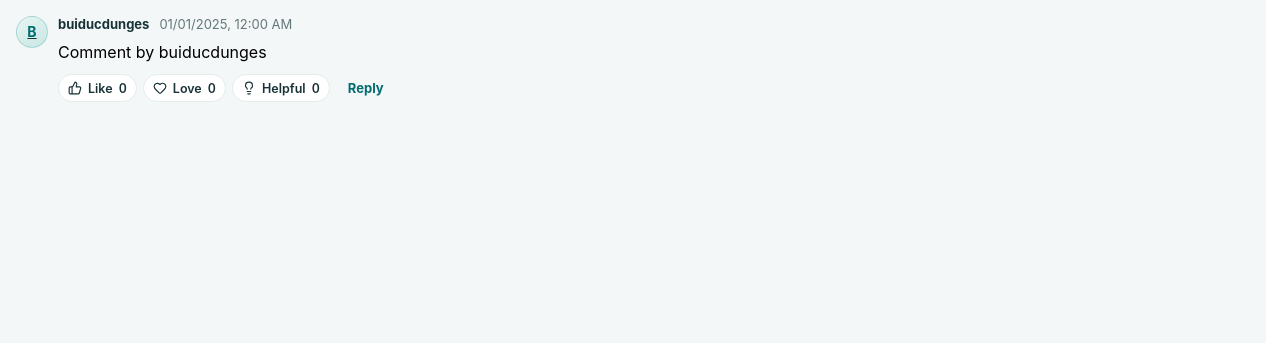
Test: CommentItem reply mentions › prefills the exact username and focuses the caret after the prefix
This screenshot has width=1266, height=343.
What coordinates should you click on to do the following:
click the button "Reply"
I would click on:
 (366, 88)
Its box is [344,74,388,102].
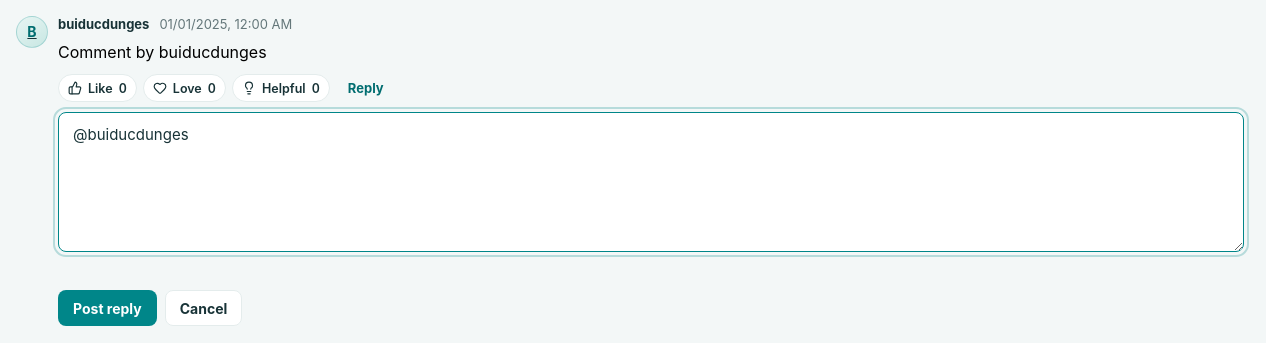
Expected: the text box named "Reply to buiducdunges" holds "@buiducdunges ", [58,112,1244,252]
